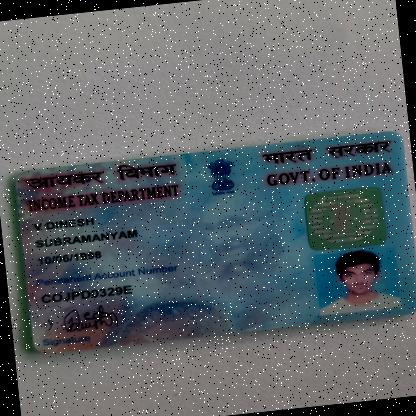pan_card: (12, 129, 415, 359)
